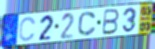2: (38, 13, 56, 43), (59, 11, 76, 40)
3: (121, 7, 139, 34)
B: (101, 8, 121, 36)
C: (77, 11, 97, 37), (18, 16, 37, 43)
